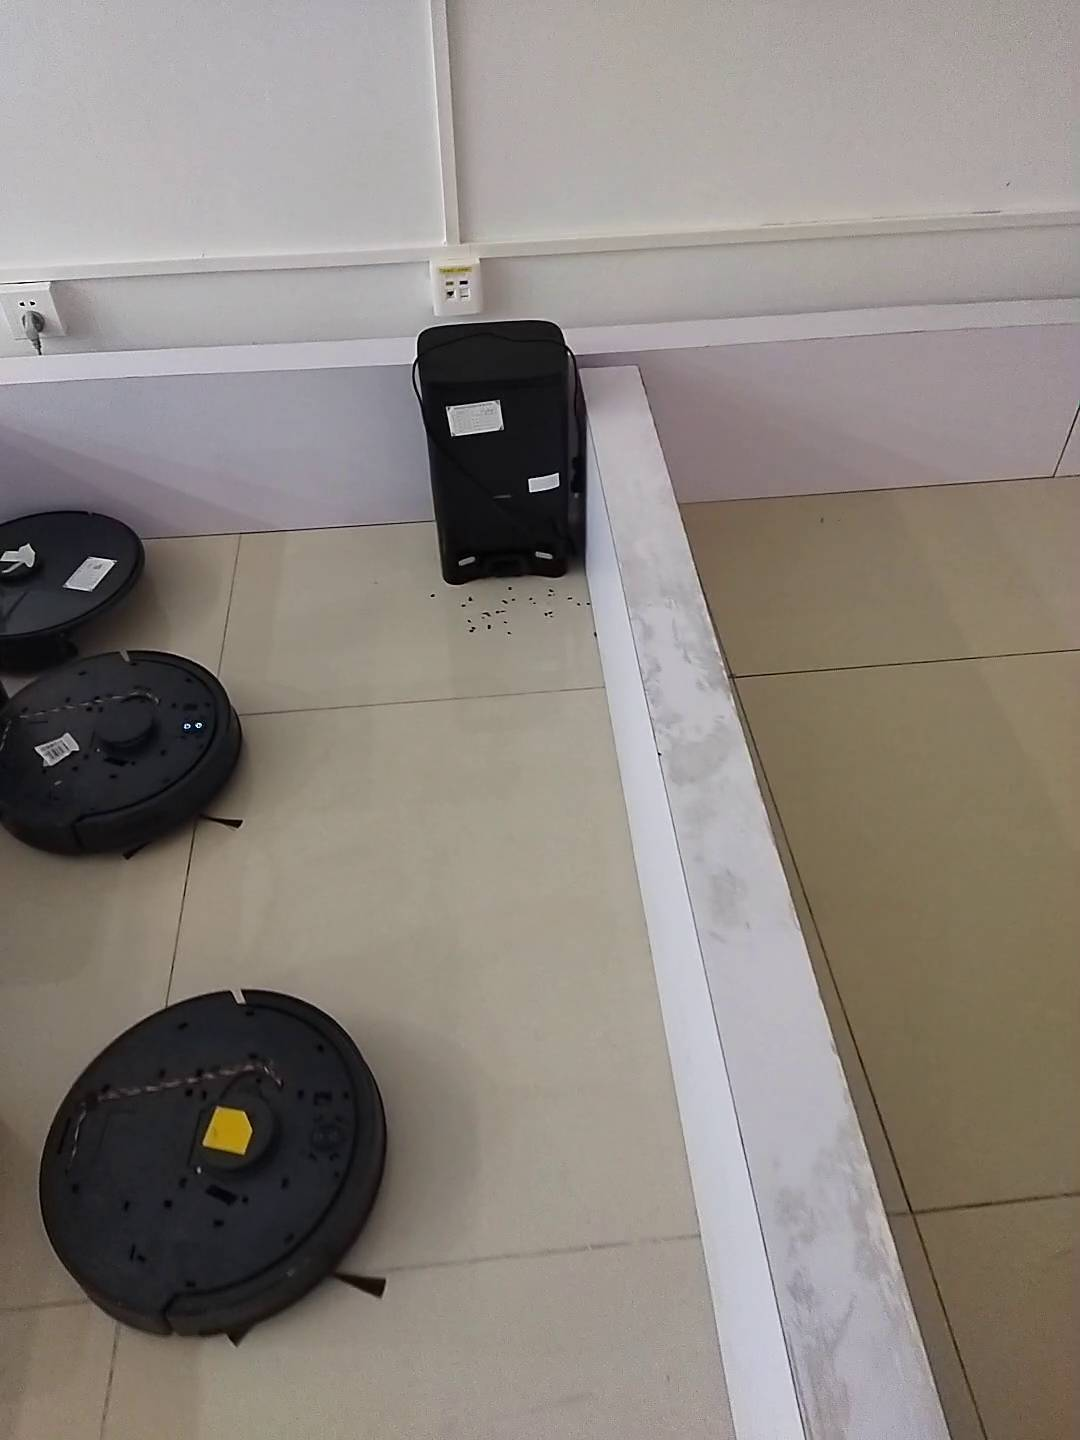dust collecting barrel: (414, 323, 580, 585)
